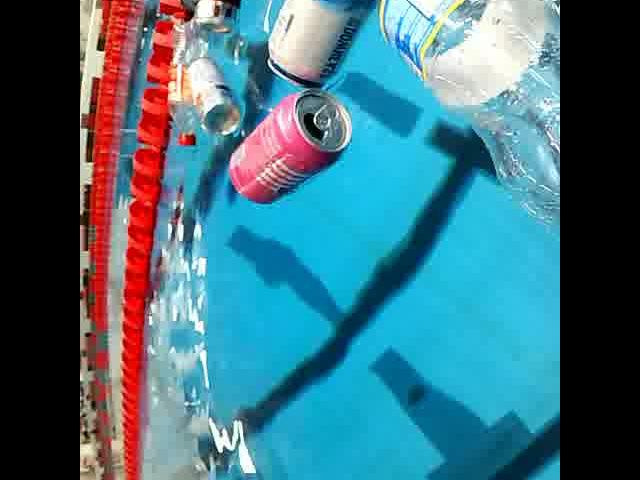Bottle: (359, 0, 560, 230), (166, 15, 210, 153)
Can: (228, 86, 356, 211), (265, 0, 393, 93), (186, 56, 242, 138), (190, 0, 252, 37)
